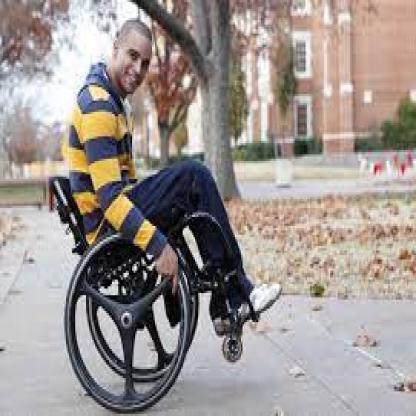wheelchair: (57, 18, 285, 414)
